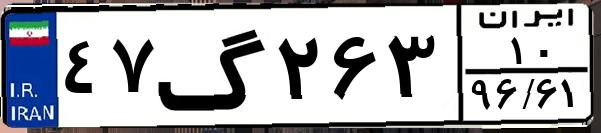0: (537, 27, 568, 80)
1: (560, 70, 590, 125), (508, 27, 537, 80)
2: (270, 28, 330, 110)
3: (385, 28, 445, 110)
4: (57, 26, 110, 100)
6: (330, 28, 385, 110), (495, 70, 520, 125), (535, 70, 560, 125)
7: (110, 28, 156, 98)
9: (470, 70, 495, 125)
گ: (156, 12, 270, 120)
